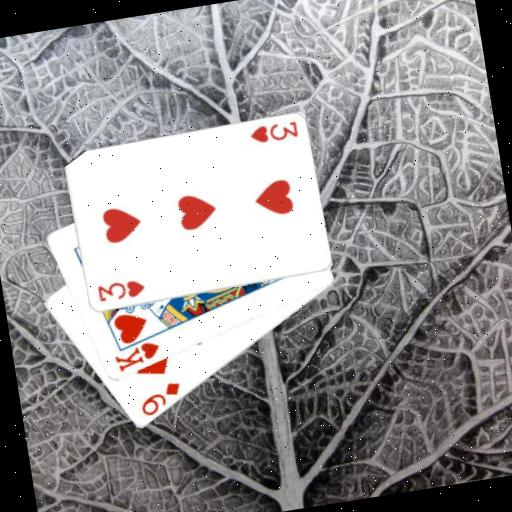3H: (245, 117, 300, 147), (94, 274, 147, 304)
9D: (134, 378, 185, 420)
KH: (109, 337, 164, 375)
